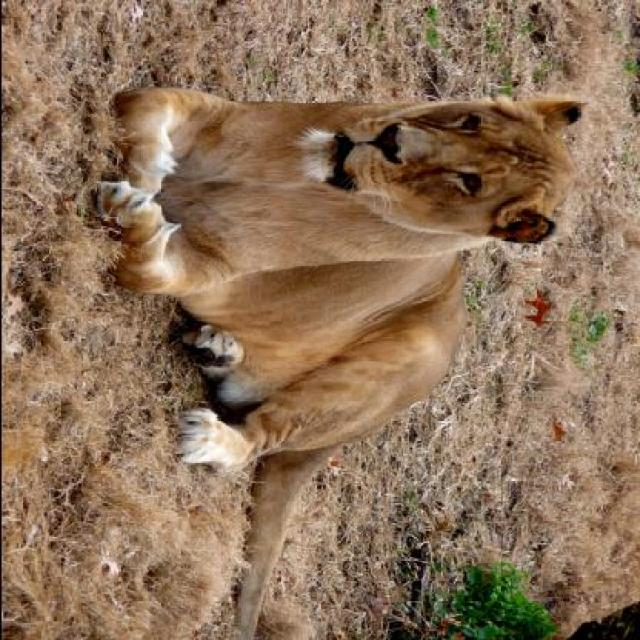Lion: (57, 40, 594, 618)
